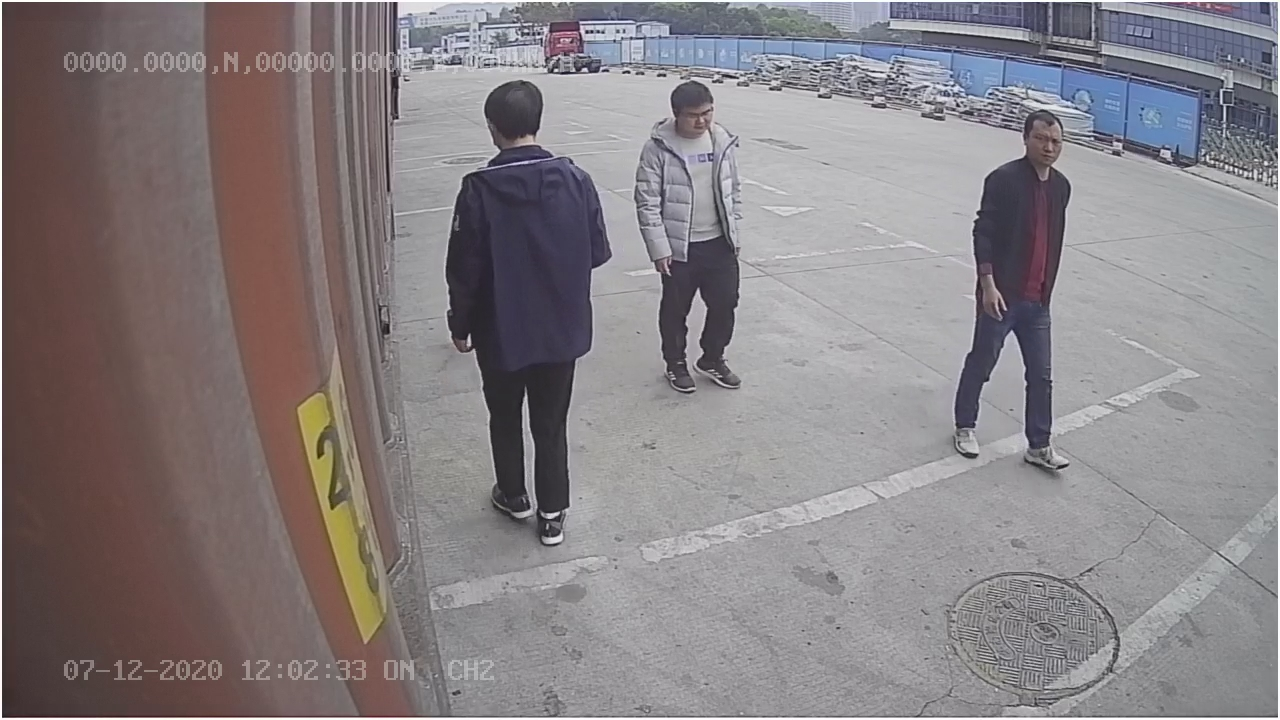person: (443, 74, 613, 545), (948, 105, 1082, 471), (634, 73, 750, 396)
